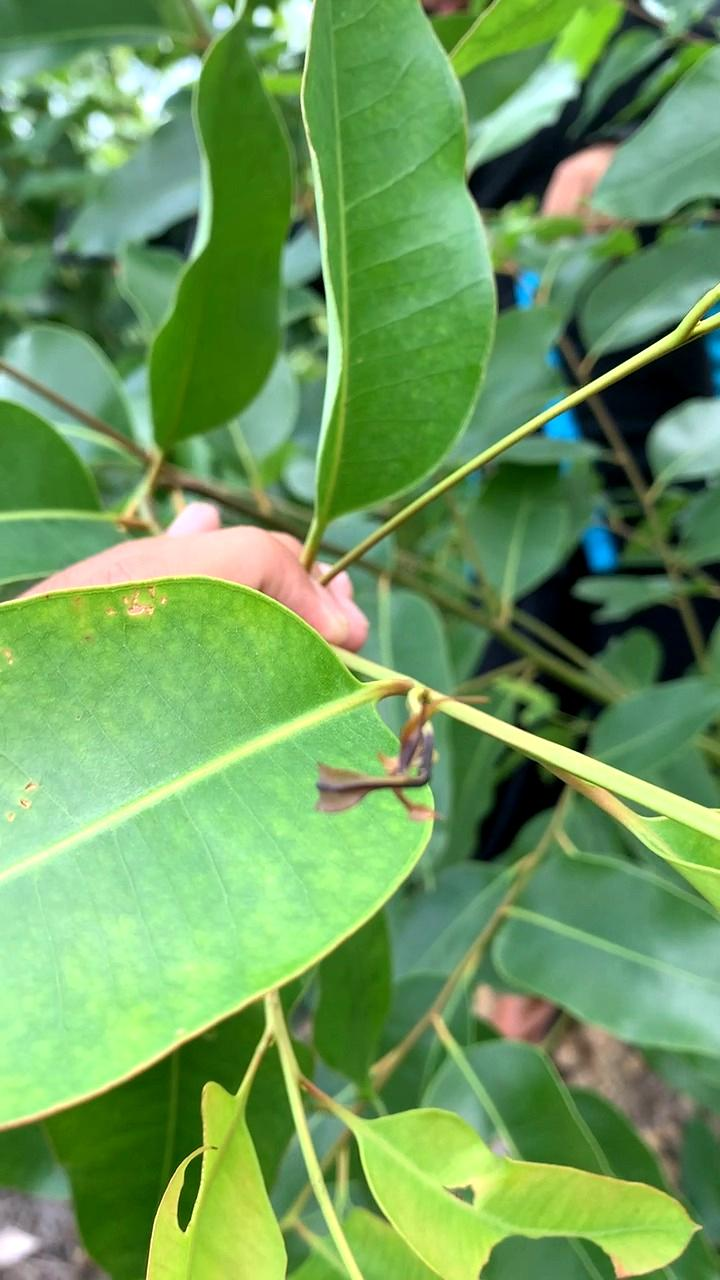Helopeltis-Withered Sprout: (295, 655, 497, 838)
